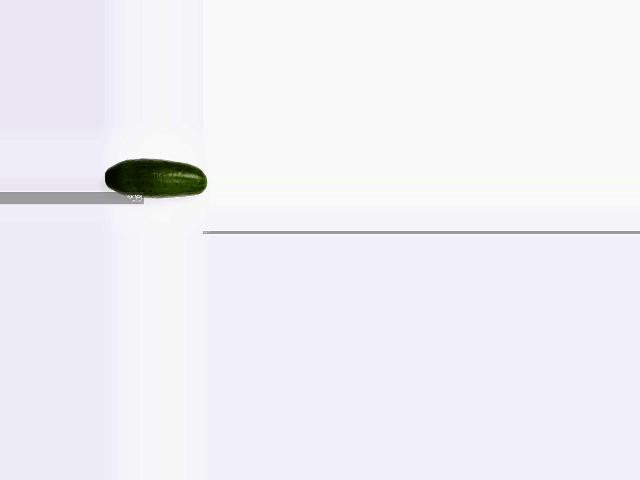cucumber: (103, 158, 207, 198)
